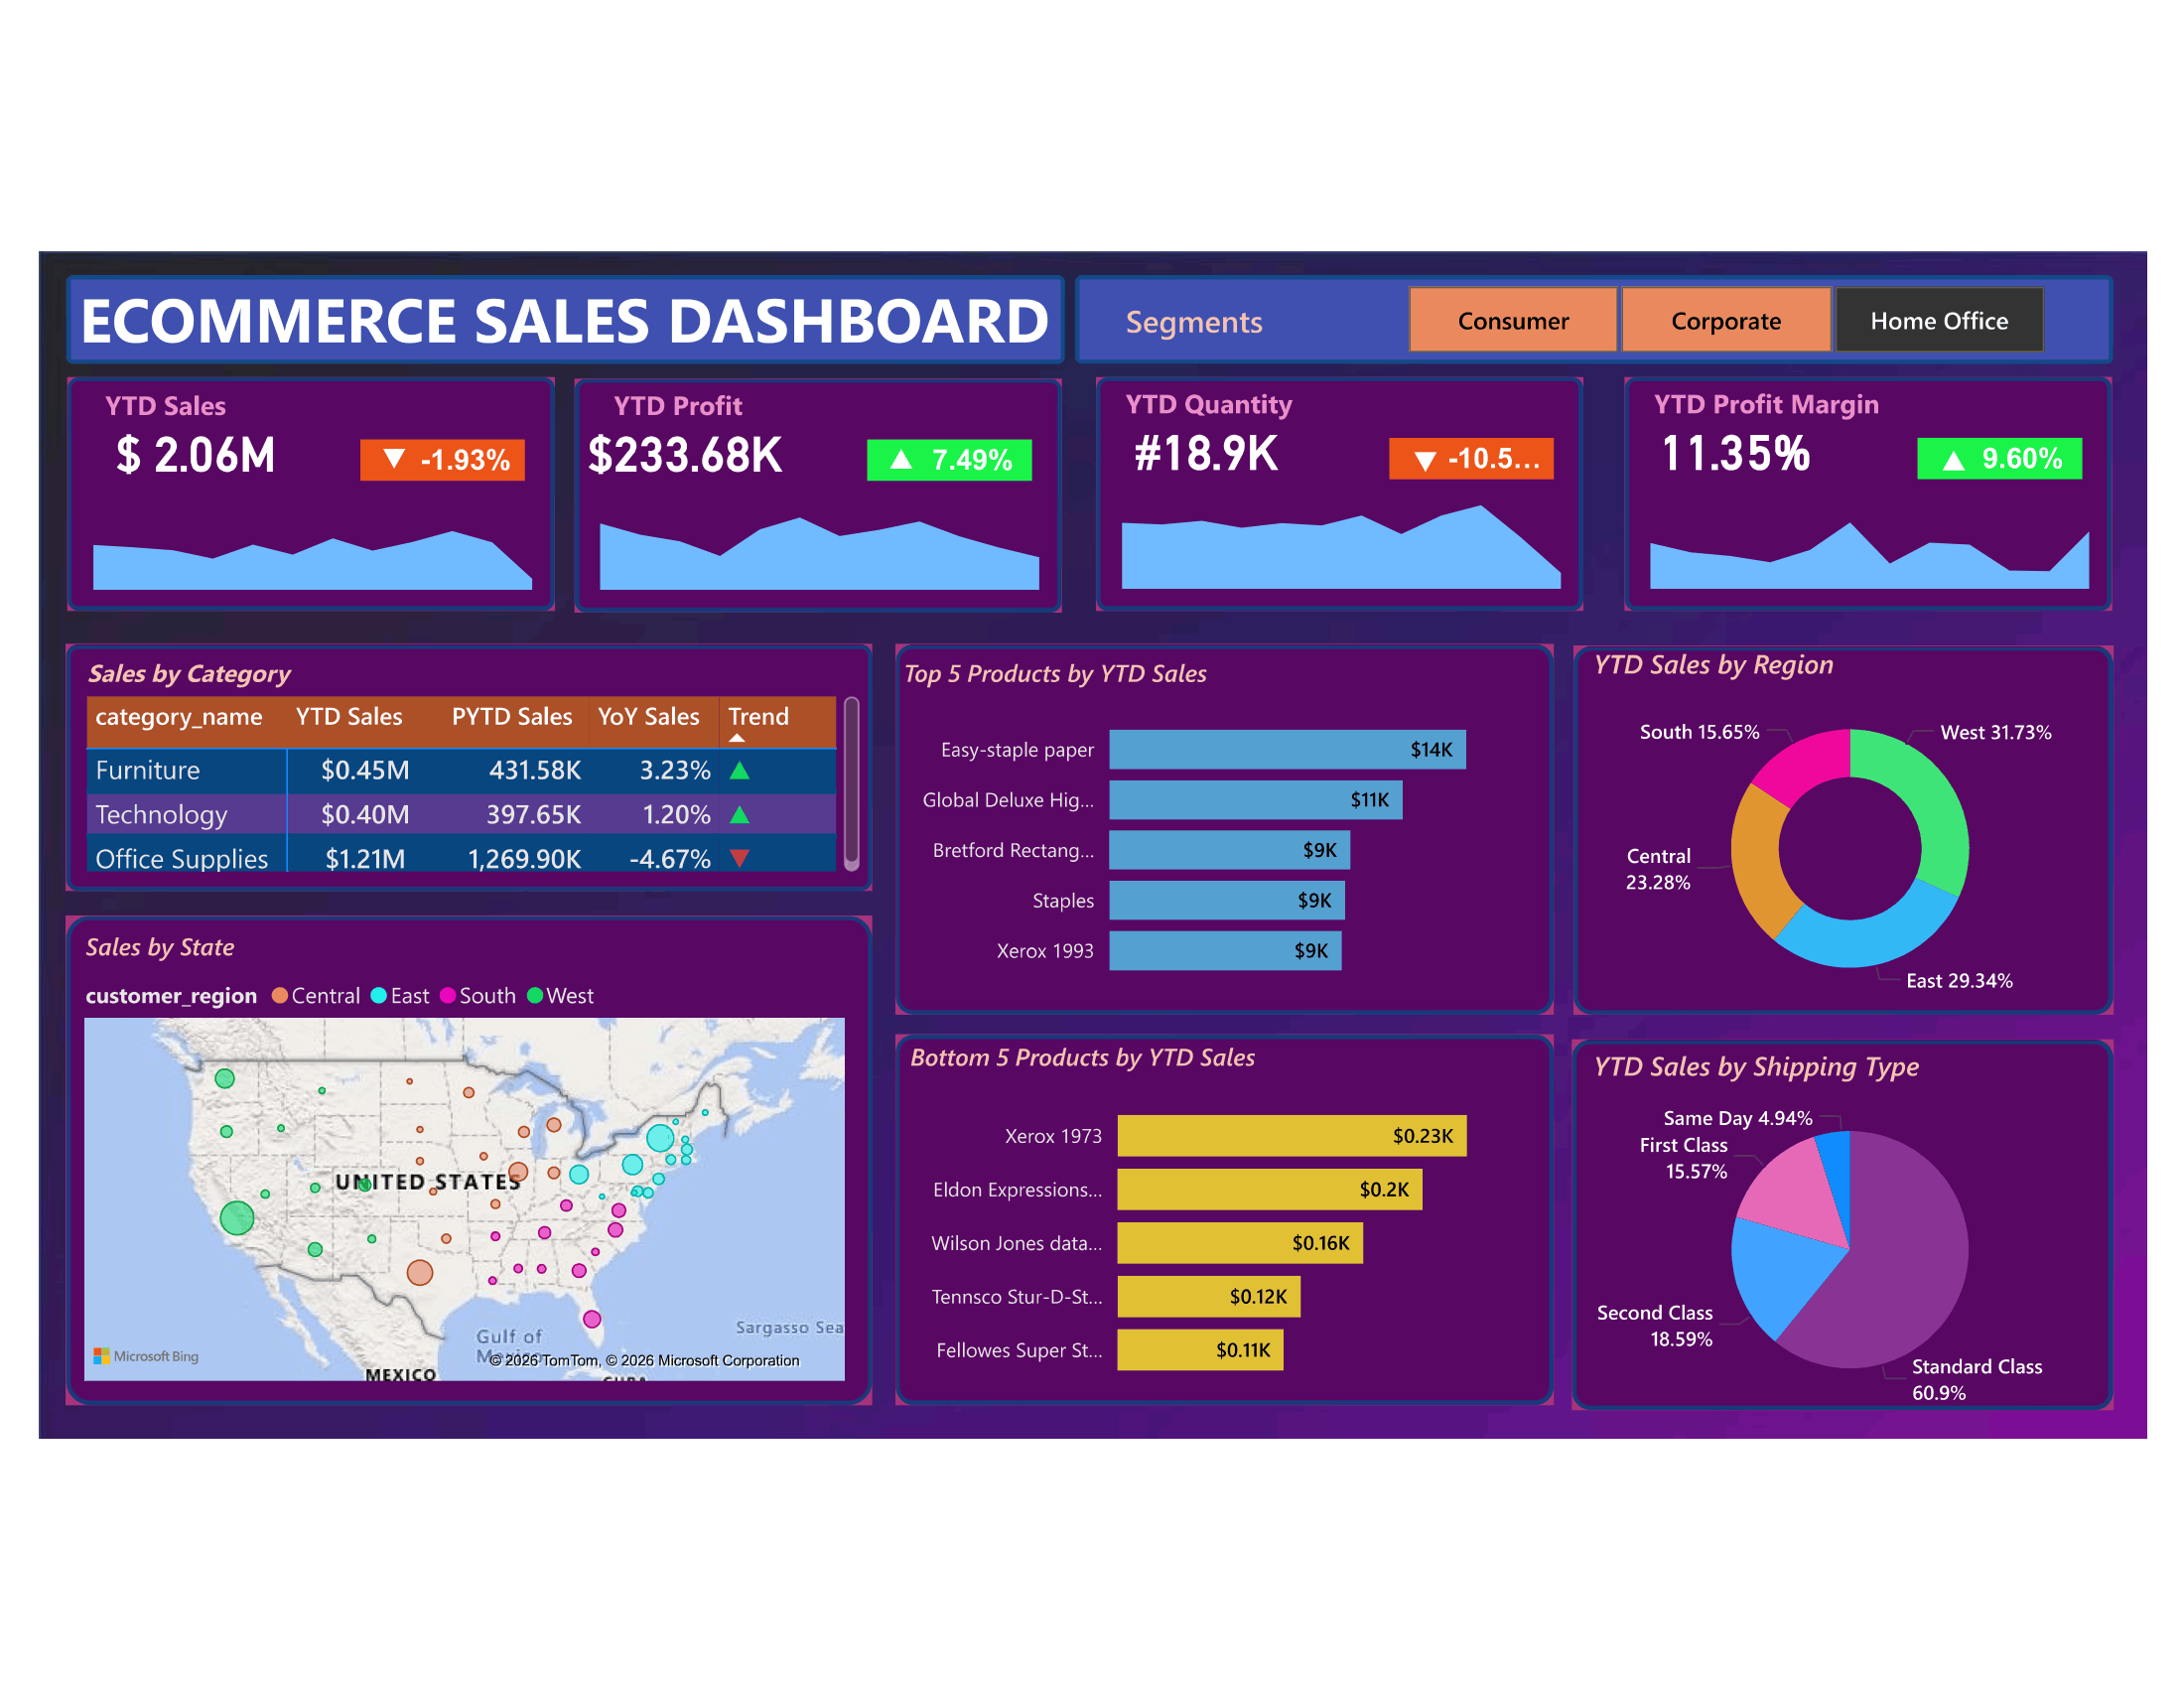

Layout of this report page (visuals, bound fields, positions):
{"tool":"powerbi","page":{"name":"Page 1","canvas":[1280,720],"ordinal":0},"visuals":[{"type":"shape","box":[16.2,13.8,606.2,53.8],"z":0},{"type":"textbox","box":[8.8,9.7,620,62.5],"z":1000},{"type":"shape","box":[16.9,76.2,295.6,141.9],"z":2000},{"type":"card","fields":{"Values":["ecommerce_data.YTD Sales"]},"box":[3,85,184,72],"z":3000},{"type":"areaChart","fields":{"Category":["Calendar.Month"],"Y":["Sum(ecommerce_data.sales_per_order)"]},"box":[17.5,140,296.2,70],"z":4000},{"type":"shape","box":[195,114,100,25],"z":5000},{"type":"card","fields":{"Values":["ecommerce_data.YoY Sales"]},"box":[223,111,72,33],"z":6000},{"type":"card","fields":{"Values":["ecommerce_data.Sales Icon"]},"box":[186,110,59,34],"z":7000},{"type":"textbox","box":[35,77,95,34],"z":8000},{"type":"shape","box":[325.3,76.6,295.6,141.9],"z":9000},{"type":"areaChart","fields":{"Category":["Calendar.Month"],"Y":["Sum(ecommerce_data.profit_per_order)"]},"box":[325.9,140.4,296.2,70],"z":10000},{"type":"shape","box":[503.4,114.4,100,25],"z":11000},{"type":"card","fields":{"Values":["ecommerce_data.YoY Profit"]},"box":[531.4,111.4,72,33],"z":12000},{"type":"card","fields":{"Values":["ecommerce_data.Profit Icon"]},"box":[502,110,43,34],"z":13000},{"type":"textbox","box":[344,77,95,34],"z":14000},{"type":"card","fields":{"Values":["ecommerce_data.YTD Profit"]},"box":[300,85,184,72],"z":15000},{"type":"shape","box":[642.3,75.7,295.6,141.9],"z":16000},{"type":"areaChart","fields":{"Category":["Calendar.Month"],"Y":["Sum(ecommerce_data.order_quantity)"]},"box":[642.9,139.4,296.2,70],"z":17000},{"type":"shape","box":[820.4,113.4,100,25],"z":18000},{"type":"card","fields":{"Values":["ecommerce_data.YoY Qty"]},"box":[848.4,110.4,72,33],"z":19000},{"type":"card","fields":{"Values":["ecommerce_data.Qty Icon"]},"box":[820,113.8,43.8,30],"z":20000},{"type":"textbox","box":[655,76.2,130,33.8],"z":21000},{"type":"card","fields":{"Values":["ecommerce_data.YTD concatenated Qty"]},"box":[617,84,184,72],"z":22000},{"type":"shape","box":[963.3,75.7,295.6,141.9],"z":23000},{"type":"areaChart","fields":{"Category":["Calendar.Month"],"Y":["ecommerce_data.Profit Margin"]},"box":[963.9,139.4,296.2,70],"z":24000},{"type":"shape","box":[1141.4,113.4,100,25],"z":25000},{"type":"card","fields":{"Values":["ecommerce_data.YoY profit Margin"]},"box":[1169.4,110.4,72,33],"z":26000},{"type":"card","fields":{"Values":["ecommerce_data.Profit margin Icon"]},"box":[1141,112.5,43.8,30],"z":27000},{"type":"textbox","box":[976,76.2,165,33.8],"z":28000},{"type":"card","fields":{"Values":["ecommerce_data.YTD Profit Margin"]},"box":[938,84,184,72],"z":29000},{"type":"shape","box":[16.2,237.5,490,150],"z":30000},{"type":"pivotTable","title":"Sales by Category","fields":{"Rows":["ecommerce_data.category_name"],"Values":["ecommerce_data.YTD Sales","ecommerce_data.PYTD Sales","ecommerce_data.YoY Sales","ecommerce_data.Sales Icon"]},"box":[23.8,245,478.8,136.2],"z":31000},{"type":"shape","box":[16.2,402.5,490,297.5],"z":32000},{"type":"map","title":"Sales by State","fields":{"Y":["us_state_long_lat_codes.latitude"],"X":["us_state_long_lat_codes.longitude"],"Size":["ecommerce_data.YTD Sales"],"Series":["ecommerce_data.customer_region"]},"box":[23.3,411.1,471.1,278.9],"z":33000},{"type":"shape","box":[520,237.5,400,225],"z":34000},{"type":"shape","box":[520,475,400,225],"z":35000},{"type":"barChart","title":"Top 5 Products by YTD Sales","fields":{"Category":["ecommerce_data.product_name"],"Y":["ecommerce_data.YTD Sales"]},"box":[520,245,391.2,208.8],"z":36000},{"type":"barChart","title":"Bottom 5 Products by YTD Sales","fields":{"Category":["ecommerce_data.product_name"],"Y":["ecommerce_data.YTD Sales"]},"box":[523.8,477.5,396.2,220],"z":37000},{"type":"shape","box":[931.7,239.2,328.3,224.2],"z":38000},{"type":"shape","box":[931.2,477.5,328.8,225],"z":39000},{"type":"donutChart","title":"YTD Sales by Region","fields":{"Category":["ecommerce_data.customer_region"],"Y":["ecommerce_data.YTD Sales"]},"box":[938.8,238.8,322.5,223.8],"z":40000},{"type":"pieChart","title":"YTD Sales by Shipping Type","fields":{"Category":["ecommerce_data.shipping_type"],"Y":["ecommerce_data.YTD Sales"]},"box":[938.8,482.5,322.5,223.8],"z":41000},{"type":"shape","box":[628.8,14.1,631.2,53.8],"z":42000},{"type":"slicer","fields":{"Values":["ecommerce_data.customer_segment"]},"box":[805.9,14.5,436.4,53.4],"z":43000},{"type":"textbox","box":[654.5,24.5,136.9,34.5],"z":44000}]}

Visuals, with their boxes on the page's 1280x720 design canvas (x1, y1, x2, y2). These are canvas units, not pixel positions in the 2184x1688 screenshot, which may show the page scaled, cropped or inside an application window:
shape: (x1=16, y1=14, x2=622, y2=68)
textbox: (x1=9, y1=10, x2=629, y2=72)
shape: (x1=17, y1=76, x2=312, y2=218)
card - ecommerce_data.YTD Sales: (x1=3, y1=85, x2=187, y2=157)
areaChart - Calendar.Month x Sum(ecommerce_data.sales_per_order): (x1=18, y1=140, x2=314, y2=210)
shape: (x1=195, y1=114, x2=295, y2=139)
card - ecommerce_data.YoY Sales: (x1=223, y1=111, x2=295, y2=144)
card - ecommerce_data.Sales Icon: (x1=186, y1=110, x2=245, y2=144)
textbox: (x1=35, y1=77, x2=130, y2=111)
shape: (x1=325, y1=77, x2=621, y2=218)
areaChart - Calendar.Month x Sum(ecommerce_data.profit_per_order): (x1=326, y1=140, x2=622, y2=210)
shape: (x1=503, y1=114, x2=603, y2=139)
card - ecommerce_data.YoY Profit: (x1=531, y1=111, x2=603, y2=144)
card - ecommerce_data.Profit Icon: (x1=502, y1=110, x2=545, y2=144)
textbox: (x1=344, y1=77, x2=439, y2=111)
card - ecommerce_data.YTD Profit: (x1=300, y1=85, x2=484, y2=157)
shape: (x1=642, y1=76, x2=938, y2=218)
areaChart - Calendar.Month x Sum(ecommerce_data.order_quantity): (x1=643, y1=139, x2=939, y2=209)
shape: (x1=820, y1=113, x2=920, y2=138)
card - ecommerce_data.YoY Qty: (x1=848, y1=110, x2=920, y2=143)
card - ecommerce_data.Qty Icon: (x1=820, y1=114, x2=864, y2=144)
textbox: (x1=655, y1=76, x2=785, y2=110)
card - ecommerce_data.YTD concatenated Qty: (x1=617, y1=84, x2=801, y2=156)
shape: (x1=963, y1=76, x2=1259, y2=218)
areaChart - Calendar.Month x ecommerce_data.Profit Margin: (x1=964, y1=139, x2=1260, y2=209)
shape: (x1=1141, y1=113, x2=1241, y2=138)
card - ecommerce_data.YoY profit Margin: (x1=1169, y1=110, x2=1241, y2=143)
card - ecommerce_data.Profit margin Icon: (x1=1141, y1=112, x2=1185, y2=142)
textbox: (x1=976, y1=76, x2=1141, y2=110)
card - ecommerce_data.YTD Profit Margin: (x1=938, y1=84, x2=1122, y2=156)
shape: (x1=16, y1=238, x2=506, y2=388)
"Sales by Category" pivotTable: (x1=24, y1=245, x2=503, y2=381)
shape: (x1=16, y1=402, x2=506, y2=700)
"Sales by State" map: (x1=23, y1=411, x2=494, y2=690)
shape: (x1=520, y1=238, x2=920, y2=462)
shape: (x1=520, y1=475, x2=920, y2=700)
"Top 5 Products by YTD Sales" barChart: (x1=520, y1=245, x2=911, y2=454)
"Bottom 5 Products by YTD Sales" barChart: (x1=524, y1=478, x2=920, y2=698)
shape: (x1=932, y1=239, x2=1260, y2=463)
shape: (x1=931, y1=478, x2=1260, y2=702)
"YTD Sales by Region" donutChart: (x1=939, y1=239, x2=1261, y2=463)
"YTD Sales by Shipping Type" pieChart: (x1=939, y1=482, x2=1261, y2=706)
shape: (x1=629, y1=14, x2=1260, y2=68)
slicer - ecommerce_data.customer_segment: (x1=806, y1=14, x2=1242, y2=68)
textbox: (x1=654, y1=24, x2=791, y2=59)
